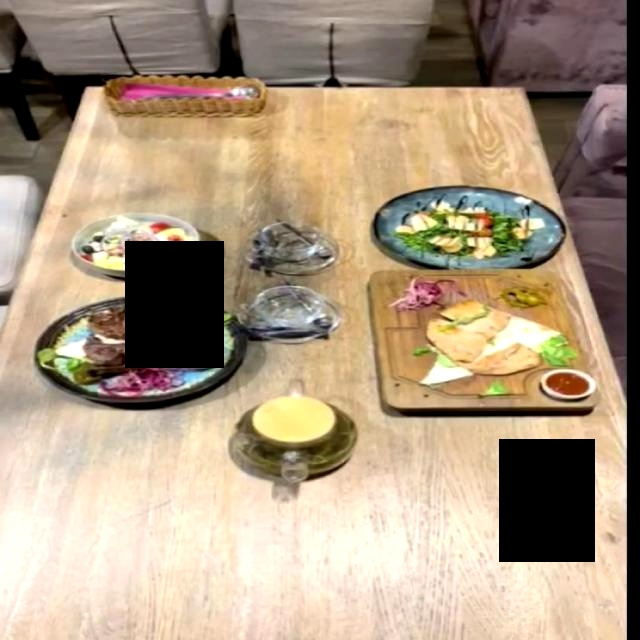meat: (368, 276, 604, 418), (33, 293, 250, 402)
salad: (375, 185, 568, 267), (68, 211, 200, 276)
tea: (230, 393, 359, 480)
